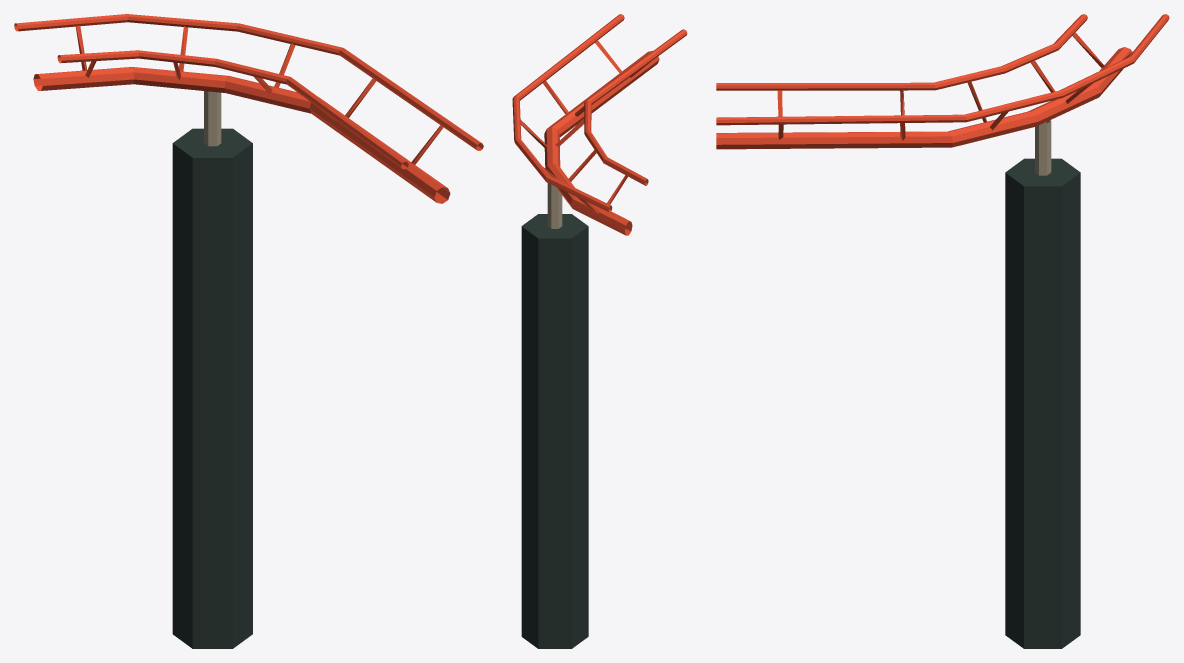
File: RollerCoaster_A_Right.fbx
3 renders of one model, left to right at view 1: azimuth 30°, elevation 25°; view 2: azimuth 150°, elevation 25°; view 3: azimuth 270°, elevation 25°, orthographic. The views are drawn at different scales.
Parts seen in each view (by area): view 1: RollerCoaster_A_R; view 2: RollerCoaster_A_R; view 3: RollerCoaster_A_R.
Boxes of the visible parts, x1,y1,x2,y2 form: RollerCoaster_A_R: (14, 14, 483, 648); RollerCoaster_A_R: (512, 14, 687, 648); RollerCoaster_A_R: (716, 14, 1169, 648).
Bounding box in the file's own units: 122 × 303 × 222.
